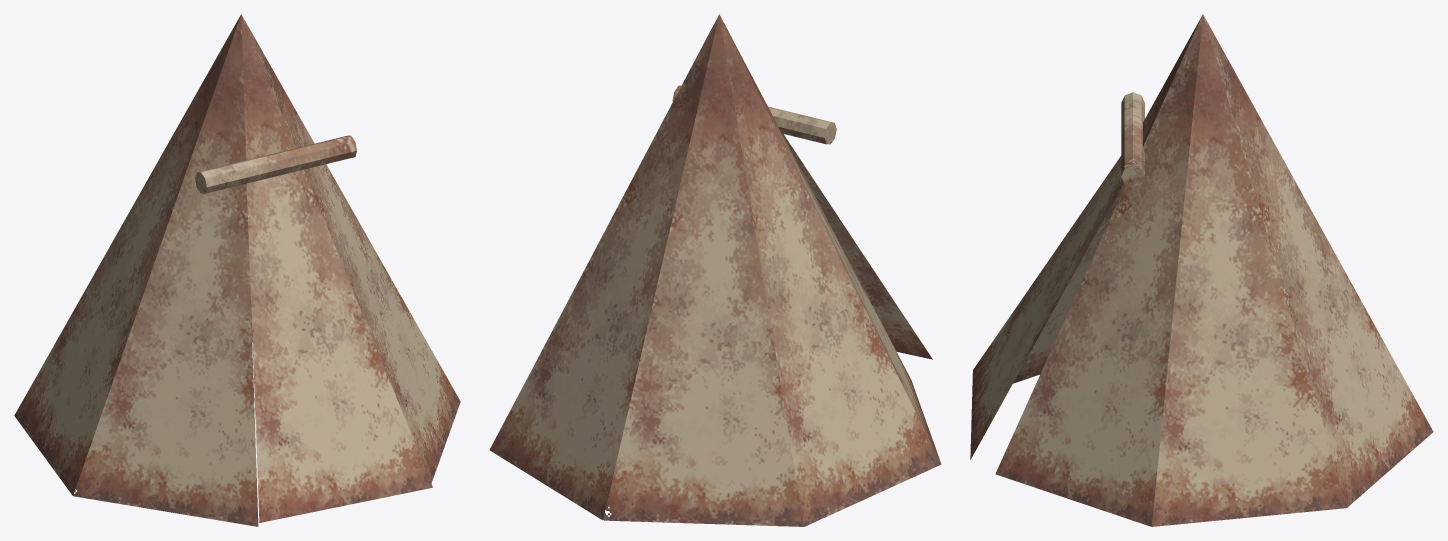
File: Tent.fbx
The picture shows the model from 3 angles, left to right: view 1: azimuth 30°, elevation 25°; view 2: azimuth 150°, elevation 25°; view 3: azimuth 270°, elevation 25°; orthographic projection.
Parts seen in each view (by area): view 1: Cone.001, Cone.004; view 2: Cone.001, Cone.004; view 3: Cone.001, Cone.004.
Boxes of the visible parts, <box> form: Cone.001: <box>14,14,460,526</box>; Cone.004: <box>195,135,356,193</box>; Cone.001: <box>489,14,941,526</box>; Cone.004: <box>672,85,836,144</box>; Cone.001: <box>970,14,1433,526</box>; Cone.004: <box>1121,92,1144,187</box>.
Size of the model in its own units: 1170 by 1276 by 1205.
